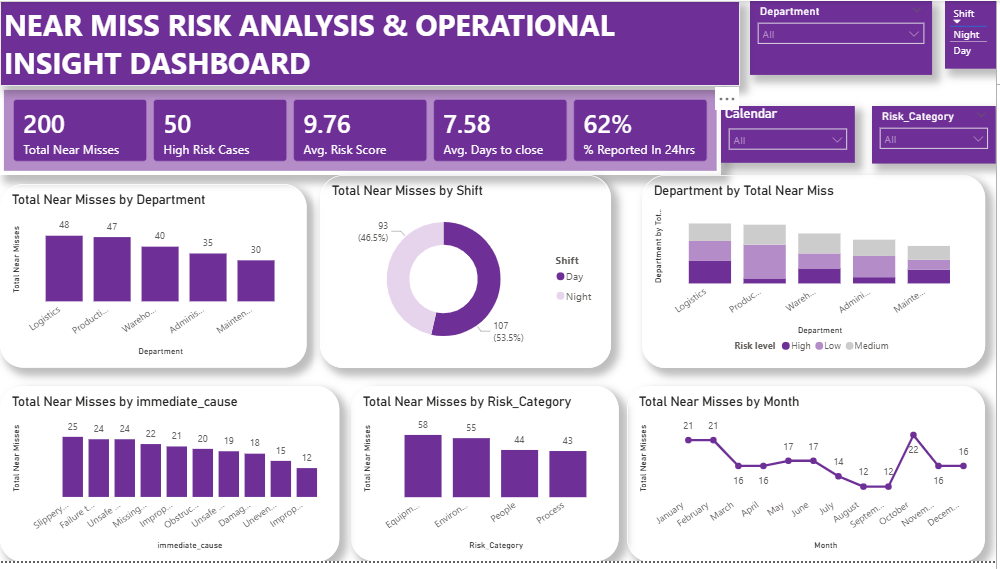

The page's visual inventory and layout, read from the dashboard file:
{"tool":"powerbi","page":{"name":"Dashboard","canvas":[1280,720],"ordinal":1},"visuals":[{"type":"cardVisual","fields":{"Data":["clean_near_miss.Total Near Misses","clean_near_miss.High Risk Cases","clean_near_miss.Average Risk Score","clean_near_miss.Average Days to close","clean_near_miss.% Reported within 24hrs"]},"box":[0,109.3,926.6,114.6],"z":0},{"type":"clusteredColumnChart","fields":{"Category":["clean_near_miss.department"],"Y":["clean_near_miss.Total Near Misses"]},"box":[0,235.8,394.2,235.8],"z":1000},{"type":"clusteredColumnChart","fields":{"Category":["clean_near_miss.risk_category"],"Y":["clean_near_miss.Total Near Misses"]},"box":[451.1,494.8,344.4,224.9],"z":2000},{"type":"lineChart","fields":{"Y":["clean_near_miss.Total Near Misses"],"Category":["clean_near_miss.date_reported.Variation.Date Hierarchy.Month"]},"box":[805.4,494.4,460.3,225.6],"z":3000},{"type":"donutChart","fields":{"Category":["clean_near_miss.shift"],"Y":["clean_near_miss.Total Near Misses"]},"box":[411.3,223.3,373.7,248.4],"z":4000},{"type":"columnChart","fields":{"Category":["clean_near_miss.immediate_cause"],"Y":["clean_near_miss.Total Near Misses"]},"box":[0,494.4,436.3,225.6],"z":5000},{"type":"columnChart","title":"Department by Total Near Miss ","fields":{"Series":["clean_near_miss.Risk level"],"Y":["CountNonNull(clean_near_miss.department)"],"Category":["clean_near_miss.department"]},"box":[824.8,223.3,440.9,248.4],"z":6000},{"type":"tableEx","fields":{"Values":["clean_near_miss.shift"]},"box":[1214.4,0,66.1,86.6],"z":7000},{"type":"slicer","fields":{"Values":["clean_near_miss.department"]},"box":[963.8,0,233.5,94.6],"z":8000},{"type":"slicer","fields":{"Values":["clean_near_miss.risk_category"]},"box":[1121,134.4,159.5,74.1],"z":9000},{"type":"slicer","title":"Calendar","fields":{"Values":["clean_near_miss.date_reported.Variation.Date Hierarchy.Year","clean_near_miss.date_reported.Variation.Date Hierarchy.Quarter","clean_near_miss.date_reported.Variation.Date Hierarchy.Month","clean_near_miss.date_reported.Variation.Date Hierarchy.Day"]},"box":[926.6,134.9,172.2,73.3],"z":10000},{"type":"textbox","box":[0,0,950.9,109.3],"z":11000}]}

Visuals, with their boxes in screenshot pixels (x1, y1, x2, y2), scaled from the page's 1280x720 canvas onto the 1000x569 screenshot:
cardVisual - clean_near_miss.Total Near Misses x clean_near_miss.High Risk Cases: box(0, 86, 724, 177)
clusteredColumnChart - clean_near_miss.department x clean_near_miss.Total Near Misses: box(0, 186, 308, 373)
clusteredColumnChart - clean_near_miss.risk_category x clean_near_miss.Total Near Misses: box(352, 391, 621, 568)
lineChart - clean_near_miss.Total Near Misses x clean_near_miss.date_reported.Variation.Date Hierarchy.Month: box(629, 391, 989, 568)
donutChart - clean_near_miss.shift x clean_near_miss.Total Near Misses: box(321, 176, 613, 373)
columnChart - clean_near_miss.immediate_cause x clean_near_miss.Total Near Misses: box(0, 391, 341, 568)
"Department by Total Near Miss " columnChart: box(644, 176, 989, 373)
tableEx - clean_near_miss.shift: box(949, 0, 999, 68)
slicer - clean_near_miss.department: box(753, 0, 935, 75)
slicer - clean_near_miss.risk_category: box(876, 106, 999, 165)
"Calendar" slicer: box(724, 107, 858, 165)
textbox: box(0, 0, 743, 86)
